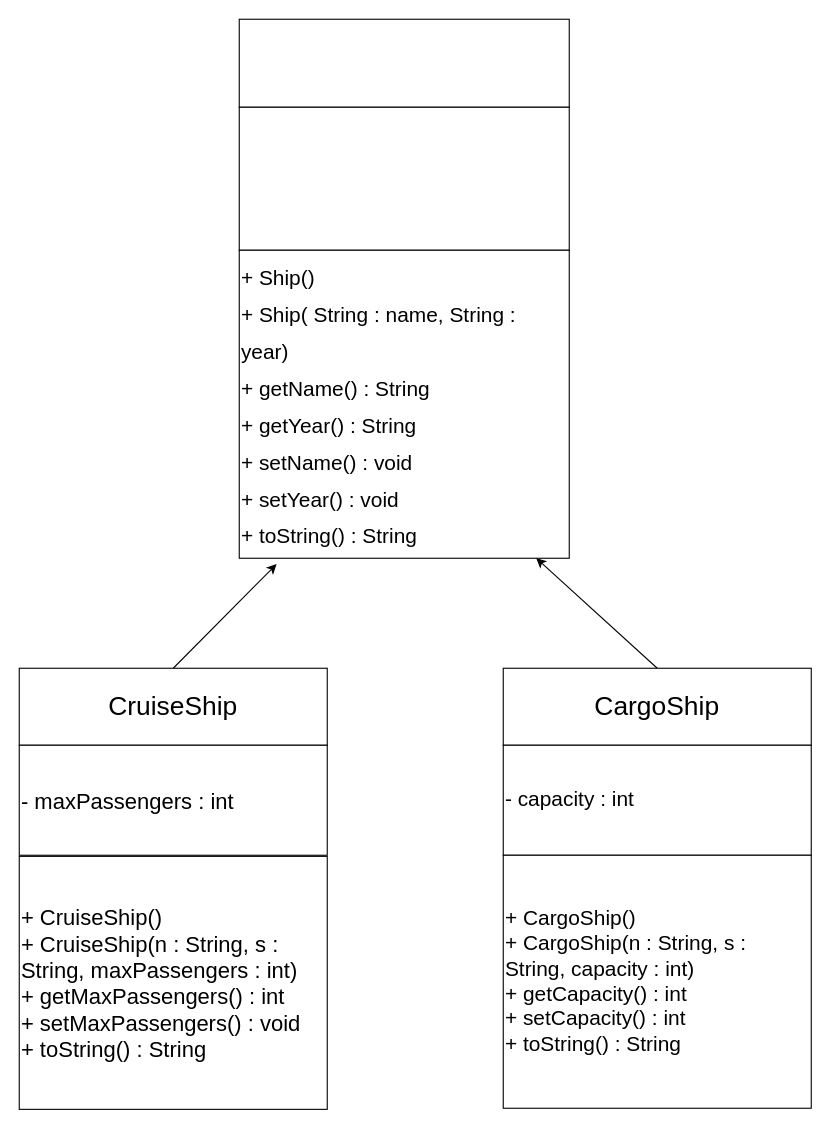
Image size: 831x1129. Some labels were removed from this diagram. The box of each missing label's shape, as (x1, y1, x2, y2) in pixels:
- name : String - year : String: (238, 106, 569, 250)
Ship: (238, 18, 569, 107)
